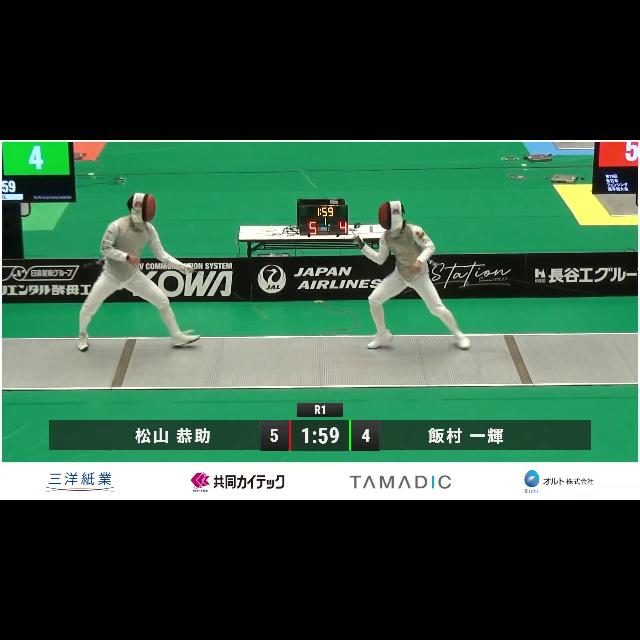blade: (298, 168, 368, 250), (182, 265, 274, 321)
